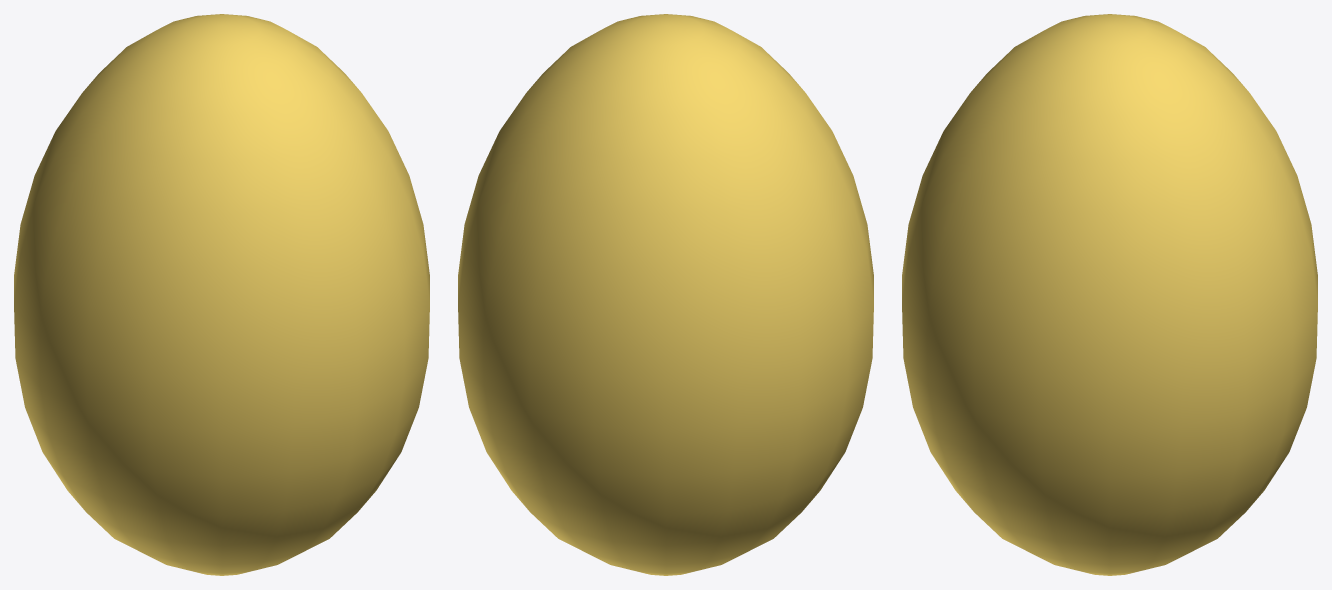
File: GoldenEgg.glb
3 views of the same model, side by side, from view 1: azimuth 30°, elevation 25°; view 2: azimuth 150°, elevation 25°; view 3: azimuth 270°, elevation 25° (orthographic).
Parts seen in each view (by area): view 1: StaticVisual; view 2: StaticVisual; view 3: StaticVisual.
Boxes of the visible parts, box(x1,y1,x2,y2) form: StaticVisual: box(14, 14, 429, 575); StaticVisual: box(458, 14, 873, 575); StaticVisual: box(902, 14, 1317, 575).
Bounding box in the file's own units: 0.9 × 1.25 × 0.8863.
